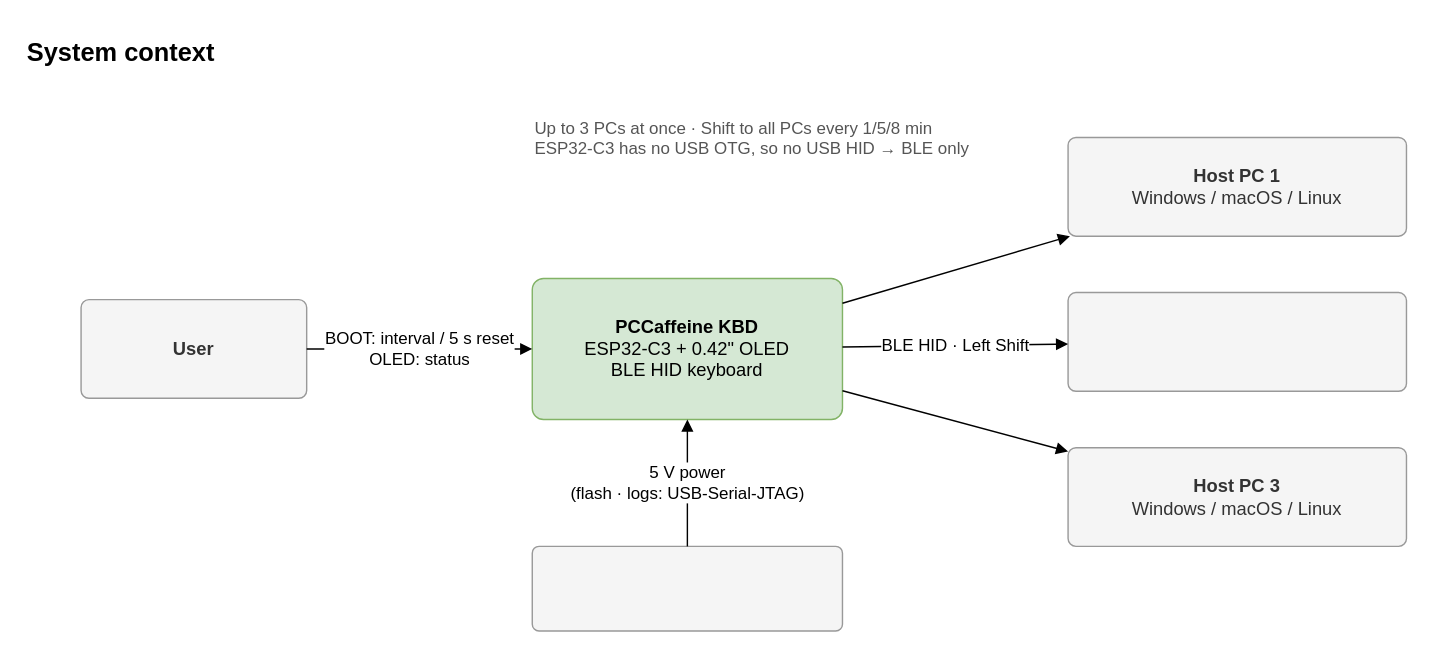
Image size: 1431x656. Some labels were removed from this diagram. Here are the shapes that lost their labels. From the top down, the centre of each, then its label:
(1236,341): Host PC 2 Windows / macOS / Linux
(686,588): USB power PC port or charger
